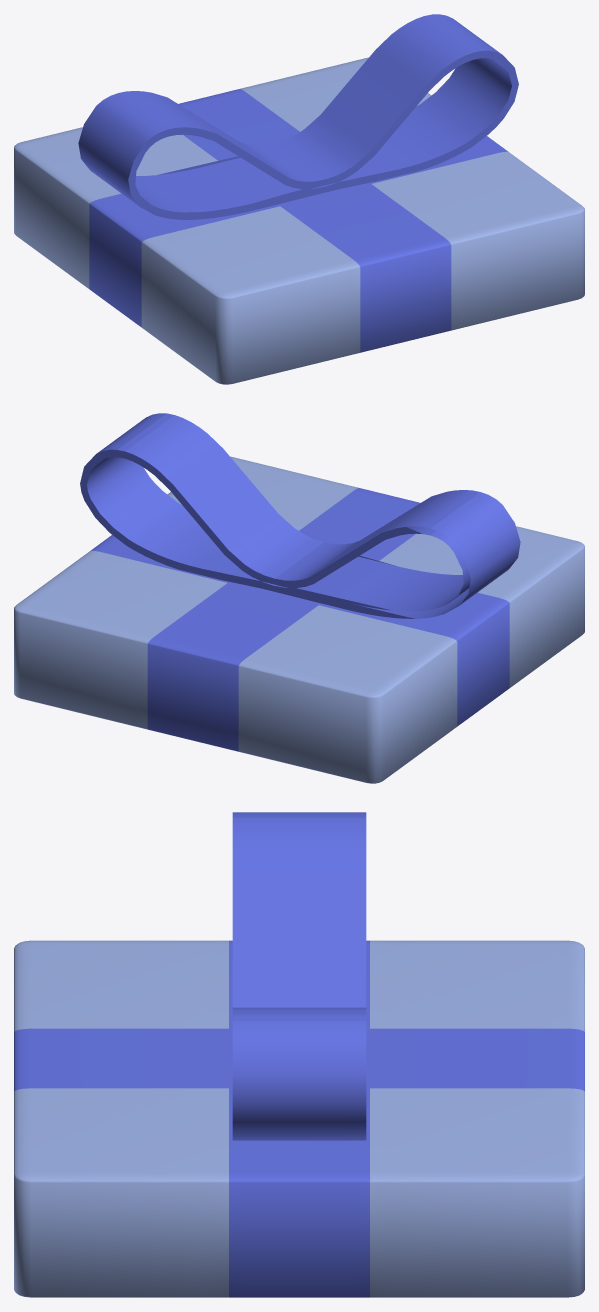
Rendered from Lid.glb.
3 renders of one model, top to bottom at view 1: azimuth 30°, elevation 25°; view 2: azimuth 150°, elevation 25°; view 3: azimuth 270°, elevation 25°, orthographic. The views are drawn at different scales.
Parts seen in each view (by area): view 1: Lid; view 2: Lid; view 3: Lid.
Part boxes in pixels (x1=…): Lid: x1=14, y1=14, x2=584, y2=384; Lid: x1=14, y1=413, x2=584, y2=783; Lid: x1=14, y1=812, x2=584, y2=1297.
Size of the model in its own units: 0.2266 by 0.1082 by 0.2134.
